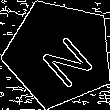N_NW: (27, 21, 92, 86)
